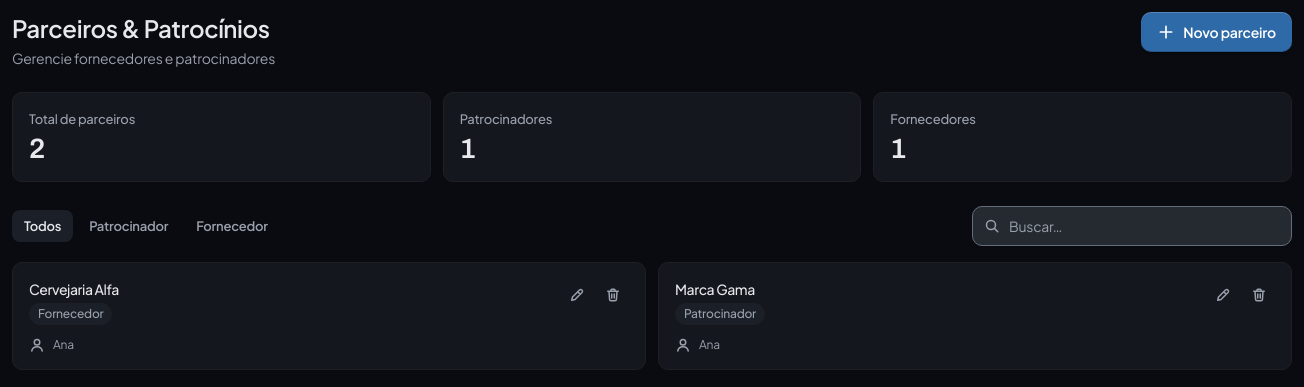
Test case: Parceiros › cartões contam todos os parceiros, mesmo com filtro de tipo ligado
Expected: the heading "Marca Gama" is shown, 675,279 -> 765,299
Click the button "Fornecedor" at (232, 226), box 184,210 -> 280,242
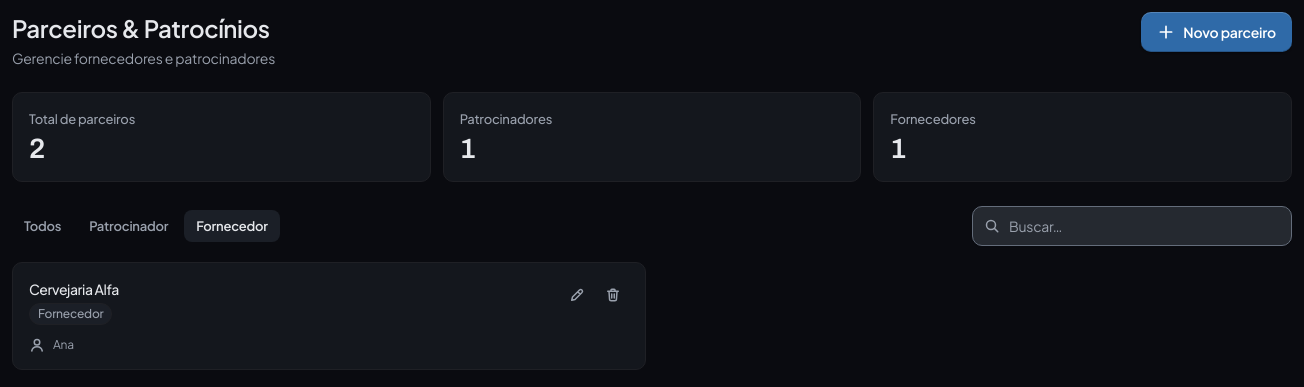
Now the heading "Marca Gama" is gone
